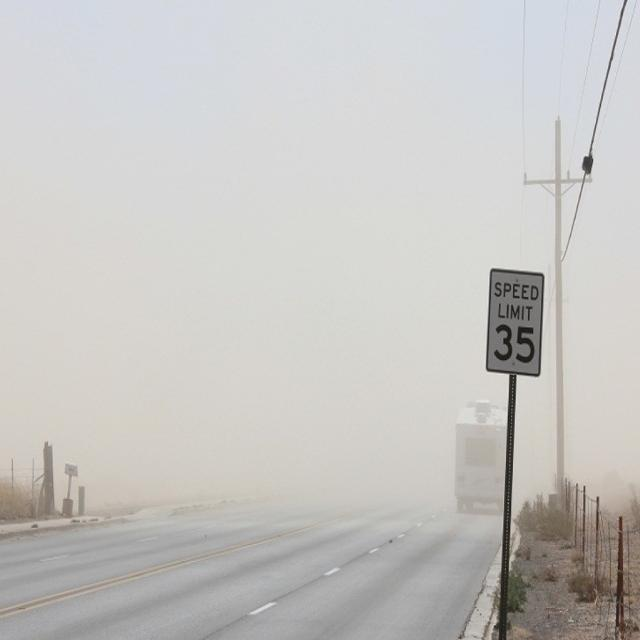car: (455, 398, 509, 510)
